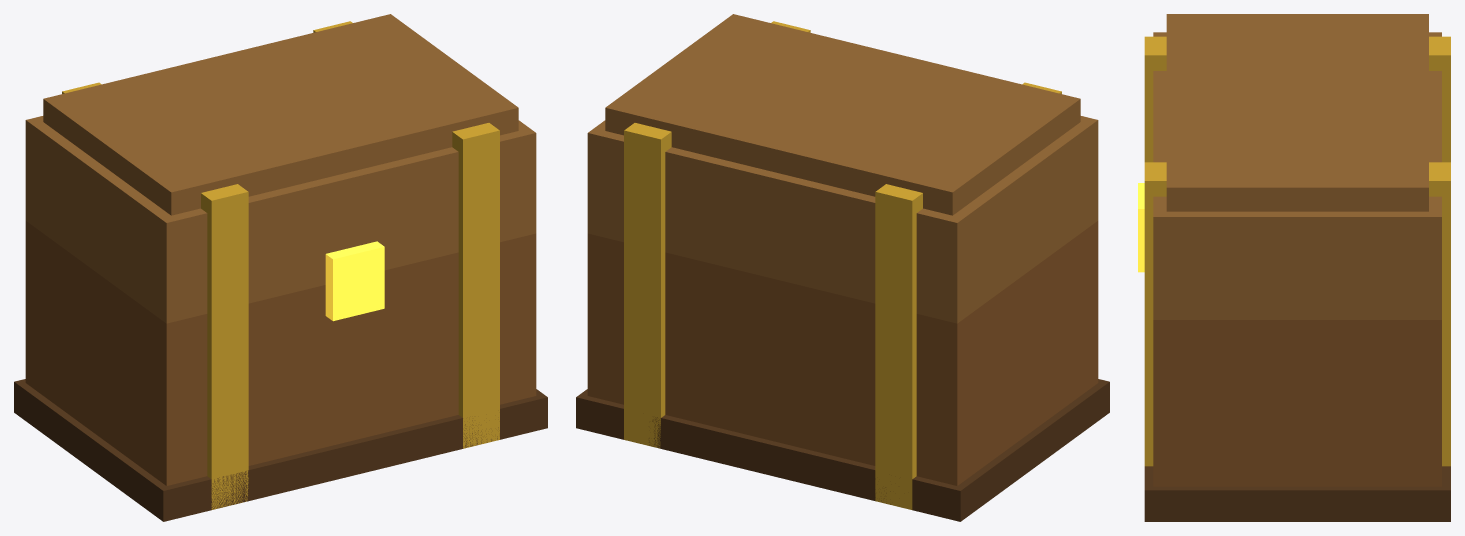
File: chest.glb
3 views of the same model, side by side, from view 1: azimuth 30°, elevation 25°; view 2: azimuth 150°, elevation 25°; view 3: azimuth 270°, elevation 25° (orthographic). The views are drawn at different scales.
Parts seen in each view (by area): view 1: base, lid_top, lid_m, base_trim, band.001, band, lid_band.001, lid_band, lock; view 2: base, lid_top, lid_m, base_trim, band, band.001, lid_band, lid_band.001; view 3: lid_top, base, lid_m, base_trim, lid_band.001, band.001, lid_band, lock.
Boxes of the visible parts, <box> form: base: <box>25,221,536,485</box>; lid_top: <box>43,14,518,215</box>; lid_m: <box>25,116,536,323</box>; base_trim: <box>14,379,547,521</box>; band.001: <box>458,239,499,448</box>; band: <box>207,300,248,509</box>; lid_band.001: <box>313,21,499,262</box>; lid_band: <box>62,82,248,324</box>; lock: <box>325,241,384,321</box>; base: <box>587,221,1098,485</box>; lid_top: <box>605,14,1080,215</box>; lid_m: <box>587,116,1098,323</box>; base_trim: <box>576,379,1109,521</box>; band: <box>875,300,916,509</box>; band.001: <box>624,244,665,448</box>; lid_band: <box>875,82,1061,324</box>; lid_band.001: <box>624,21,810,262</box>; lid_top: <box>1166,14,1428,211</box>; base: <box>1153,320,1441,486</box>; lid_m: <box>1153,32,1441,319</box>; base_trim: <box>1144,466,1450,521</box>; lid_band.001: <box>1144,162,1450,307</box>; band.001: <box>1144,292,1450,466</box>; lid_band: <box>1144,36,1450,162</box>; lock: <box>1138,183,1144,272</box>.
Bounding box in the file's own units: 1.04 × 0.82 × 0.715.
